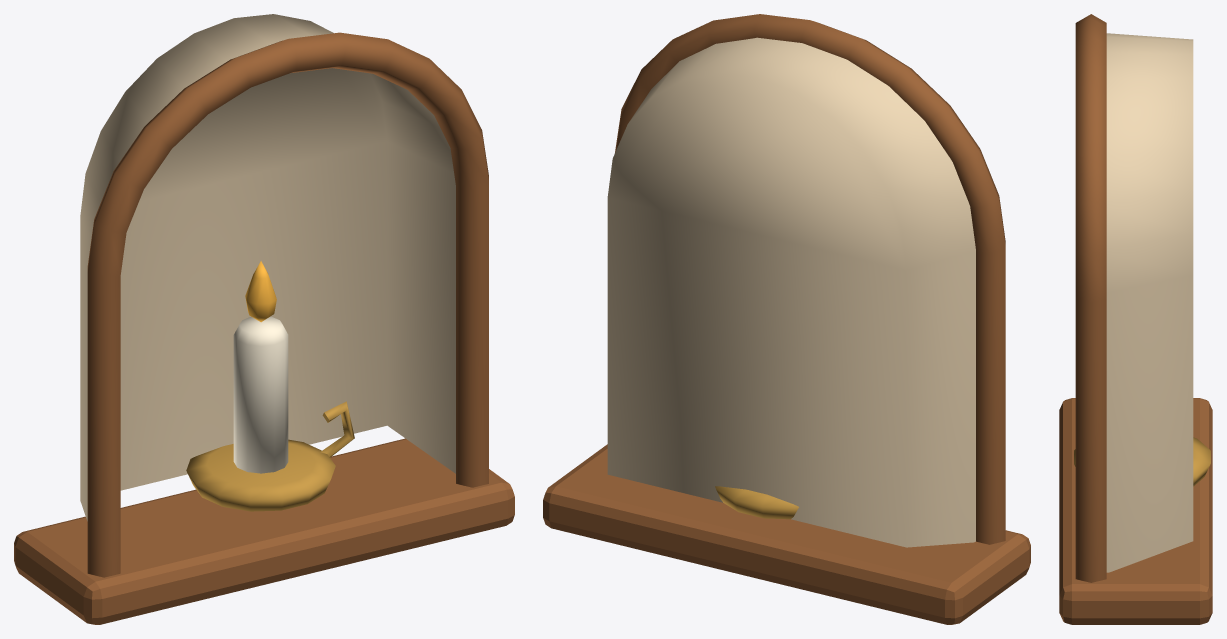
File: candle_niche.glb
The picture shows the model from 3 angles, left to right: view 1: azimuth 30°, elevation 25°; view 2: azimuth 150°, elevation 25°; view 3: azimuth 270°, elevation 25°; orthographic projection. The views are drawn at different scales.
Visible parts, largest first — view 1: candle_niche; view 2: candle_niche; view 3: candle_niche.
Boxes of the visible parts, box(x1,y1,x2,y2) form: candle_niche: box(14, 14, 514, 624); candle_niche: box(543, 14, 1030, 624); candle_niche: box(1059, 14, 1212, 624).
Size of the model in its own units: 0.364 by 0.4281 by 0.12.
